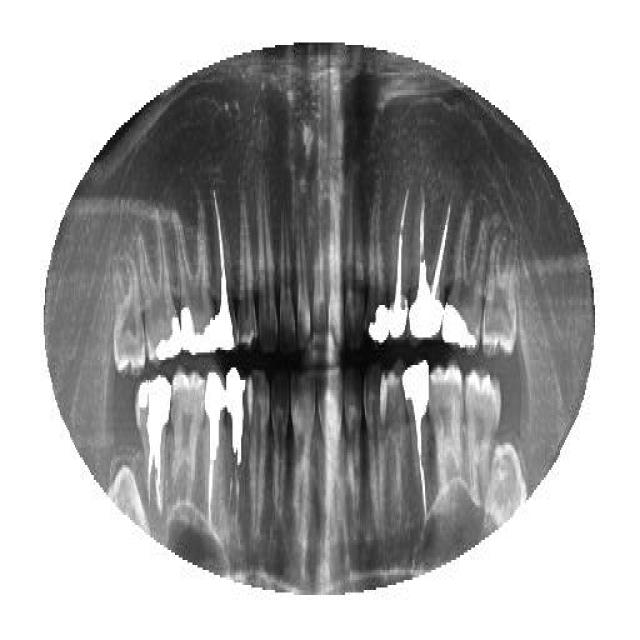Fillings: (442, 198, 487, 348), (138, 213, 182, 365), (174, 197, 214, 355), (362, 190, 388, 342)
Implant: (409, 198, 451, 340), (135, 373, 171, 515), (212, 192, 238, 352), (402, 360, 428, 512), (388, 185, 412, 337), (205, 372, 224, 528), (225, 365, 245, 490)
